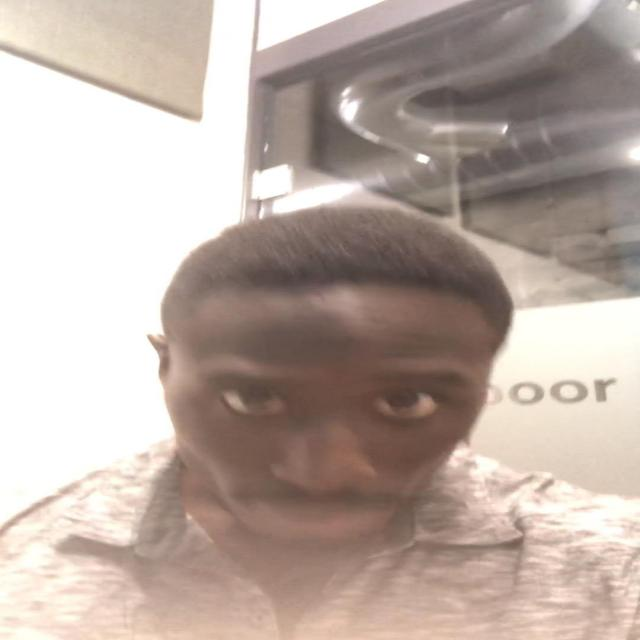face: (170, 320, 493, 553)
